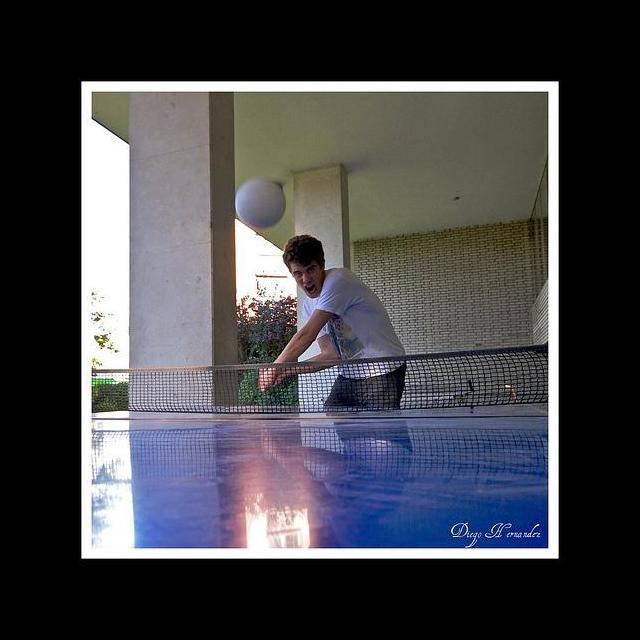ping-pong-ball: (235, 176, 287, 228)
